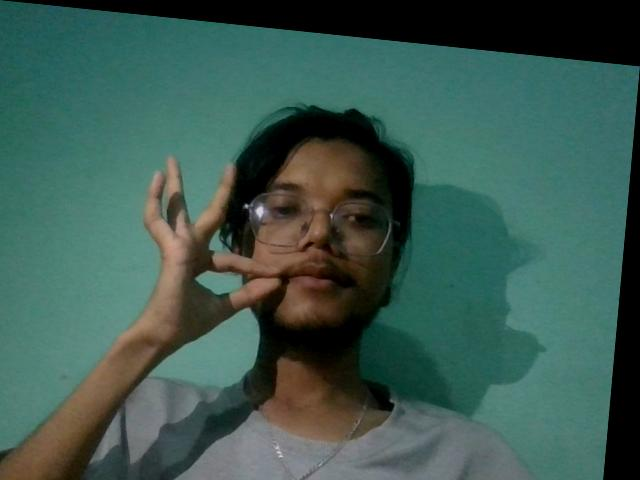Cat: (119, 137, 298, 380)
